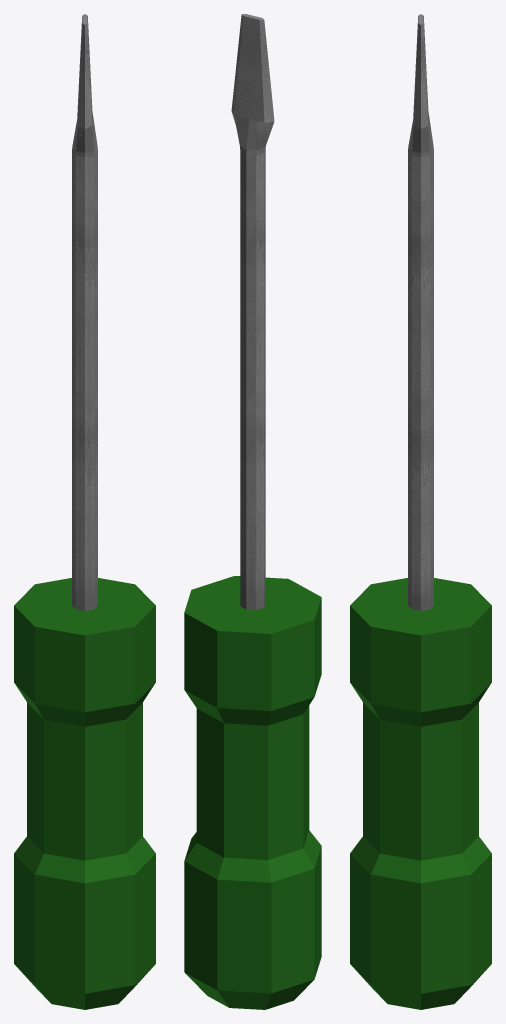
The model's file is screwdriver.fbx.
3 renders of one model, left to right at view 1: azimuth 90°, elevation 25°; view 2: azimuth 150°, elevation 25°; view 3: azimuth 270°, elevation 25°, orthographic.
Visible parts, largest first — view 1: Screwdriver; view 2: Screwdriver; view 3: Screwdriver.
Boxes of the visible parts, <box> form: Screwdriver: <box>14,14,155,1009</box>; Screwdriver: <box>184,14,321,1009</box>; Screwdriver: <box>350,14,491,1009</box>.
Size of the model in its own units: 23.74 by 179 by 23.74.
1 material, 1 textured.
